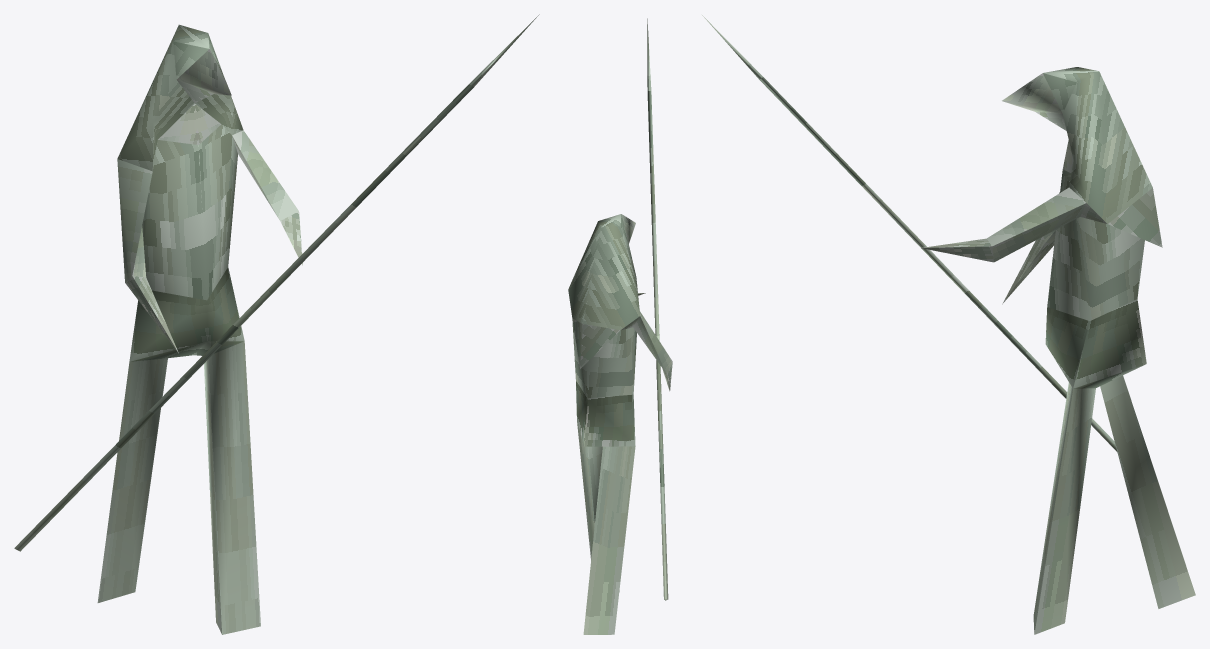
The model's file is thm_nboo_gungan_statue_s02_l4.fbx.
The picture shows the model from 3 angles, left to right: view 1: azimuth 30°, elevation 25°; view 2: azimuth 150°, elevation 25°; view 3: azimuth 270°, elevation 25°; orthographic projection. The views are drawn at different scales.
Visible parts, largest first — view 1: mesh_node; view 2: mesh_node; view 3: mesh_node.
Part boxes in pixels (x1,y1,x2,y2): mesh_node: [14, 14, 539, 634]; mesh_node: [568, 18, 672, 634]; mesh_node: [702, 15, 1195, 634].
Size of the model in its own units: 1.78 by 4.4 by 2.96.
1 material, 1 textured.
